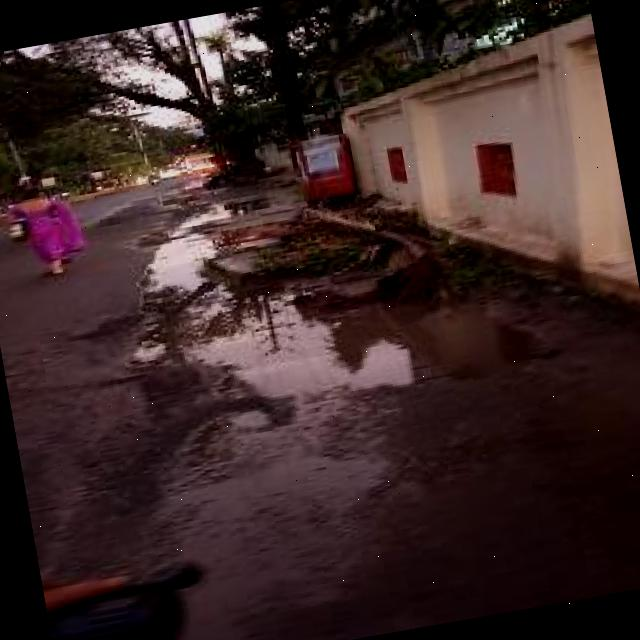stagnation: (109, 295, 555, 452)
